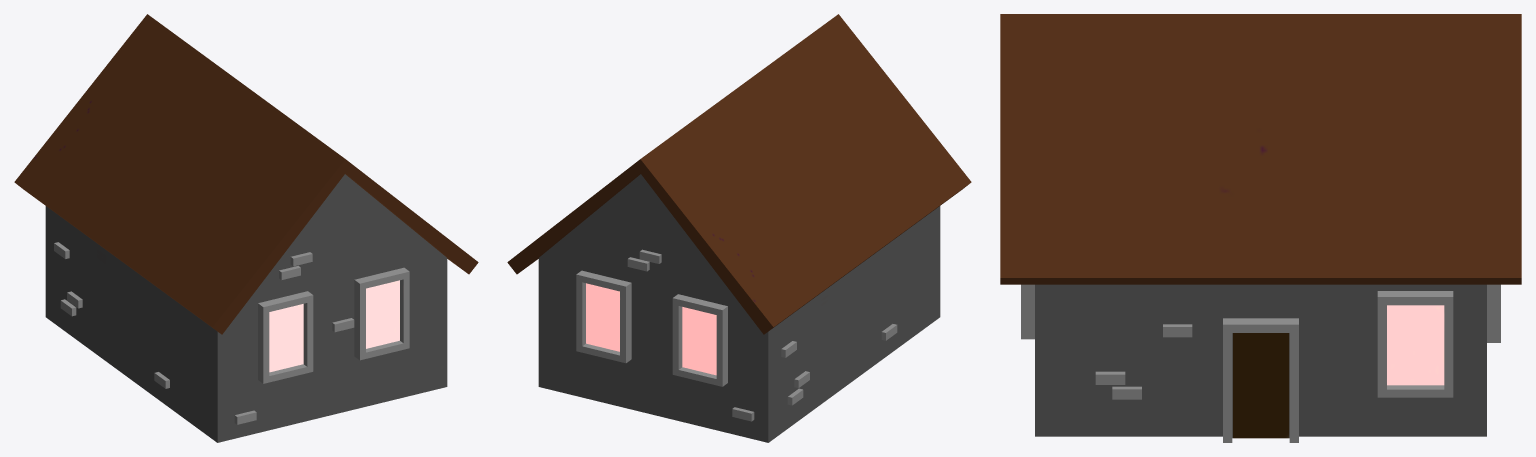
File: Build_2.fbx
The picture shows the model from 3 angles, left to right: view 1: azimuth 30°, elevation 25°; view 2: azimuth 150°, elevation 25°; view 3: azimuth 270°, elevation 25°; orthographic projection. The views are drawn at different scales.
Parts seen in each view (by area): view 1: No_Madness.001; view 2: No_Madness.001; view 3: No_Madness.001.
Part boxes in pixels (bbox=[...]): No_Madness.001: bbox=[14, 14, 478, 442]; No_Madness.001: bbox=[507, 14, 971, 442]; No_Madness.001: bbox=[1000, 14, 1521, 442].
Size of the model in its own units: 3.03 by 2.89 by 3.91.
